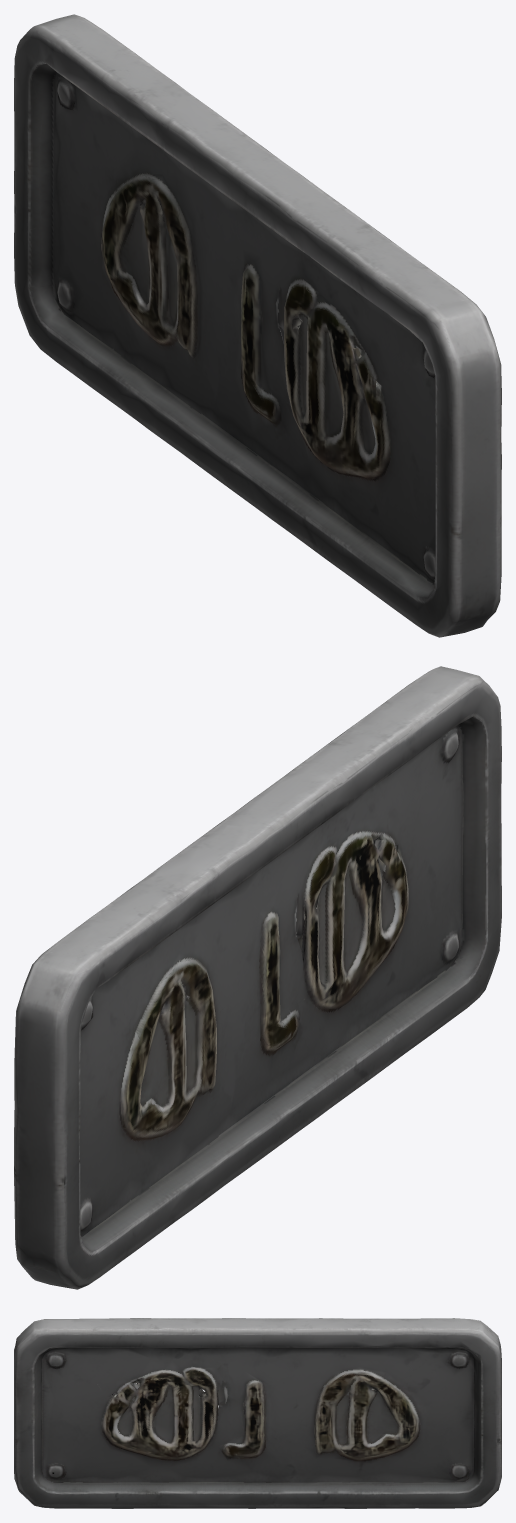
Rendered from smalllectureroom_RoomSignage.glb.
3 views of the same model, one above another, from view 1: azimuth 30°, elevation 25°; view 2: azimuth 150°, elevation 25°; view 3: azimuth 270°, elevation 25° (orthographic). The views are drawn at different scales.
Parts seen in each view (by area): view 1: world; view 2: world; view 3: world.
Part boxes in pixels (x1=…): world: x1=14, y1=14, x2=501, y2=637; world: x1=14, y1=666, x2=501, y2=1289; world: x1=14, y1=1318, x2=501, y2=1508.
Size of the model in its own units: 0.0673 by 0.4082 by 1.
1 material, 1 textured.
